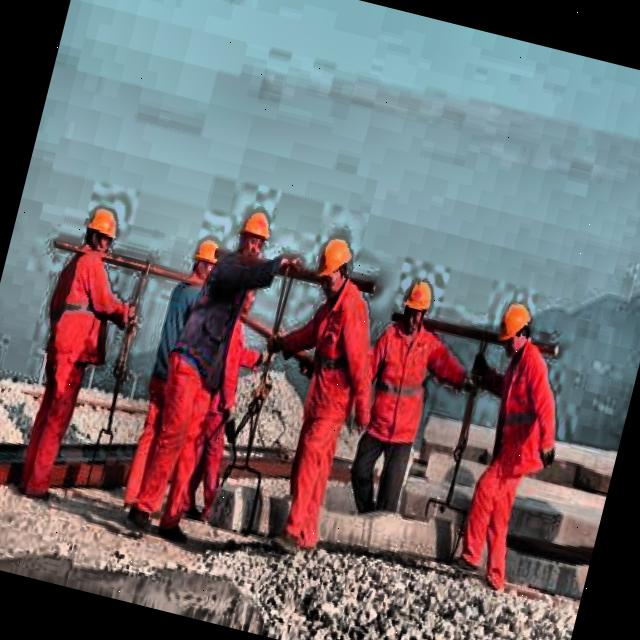helmet: (227, 202, 280, 275), (72, 202, 126, 272), (308, 231, 359, 300), (392, 274, 442, 342), (490, 297, 539, 358), (184, 232, 224, 286)
